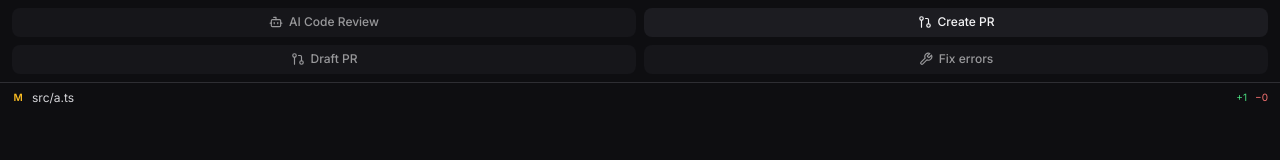
Test: DiffView › Create PR surfaces an error when gh fails
Click the button with test id "diff-create-pr" at (956, 22), box [644,8,1268,37]
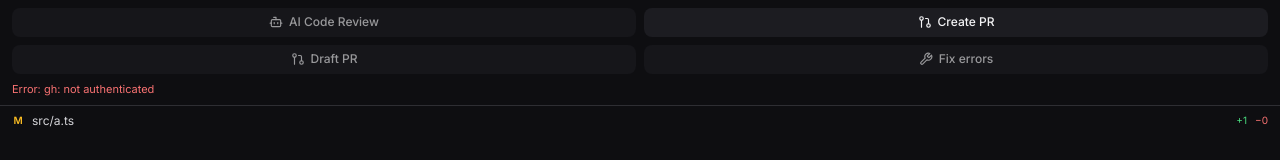
Expected: the text with test id "diff-pr-error" shows "gh: not authenticated", [12,82,154,96]
